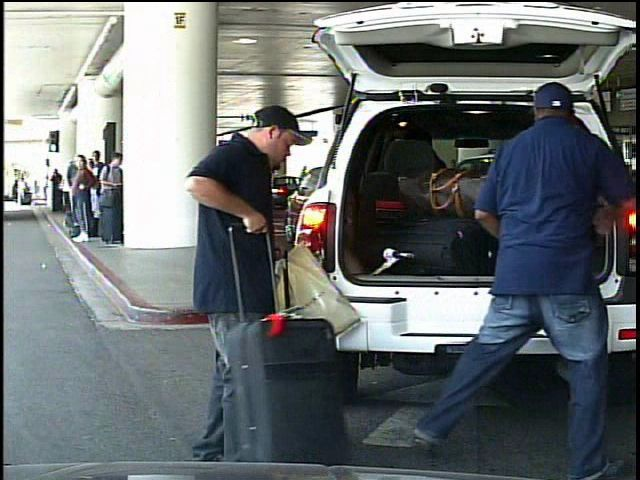person: (425, 77, 621, 479), (158, 95, 301, 462), (17, 174, 28, 205), (297, 164, 307, 193)
